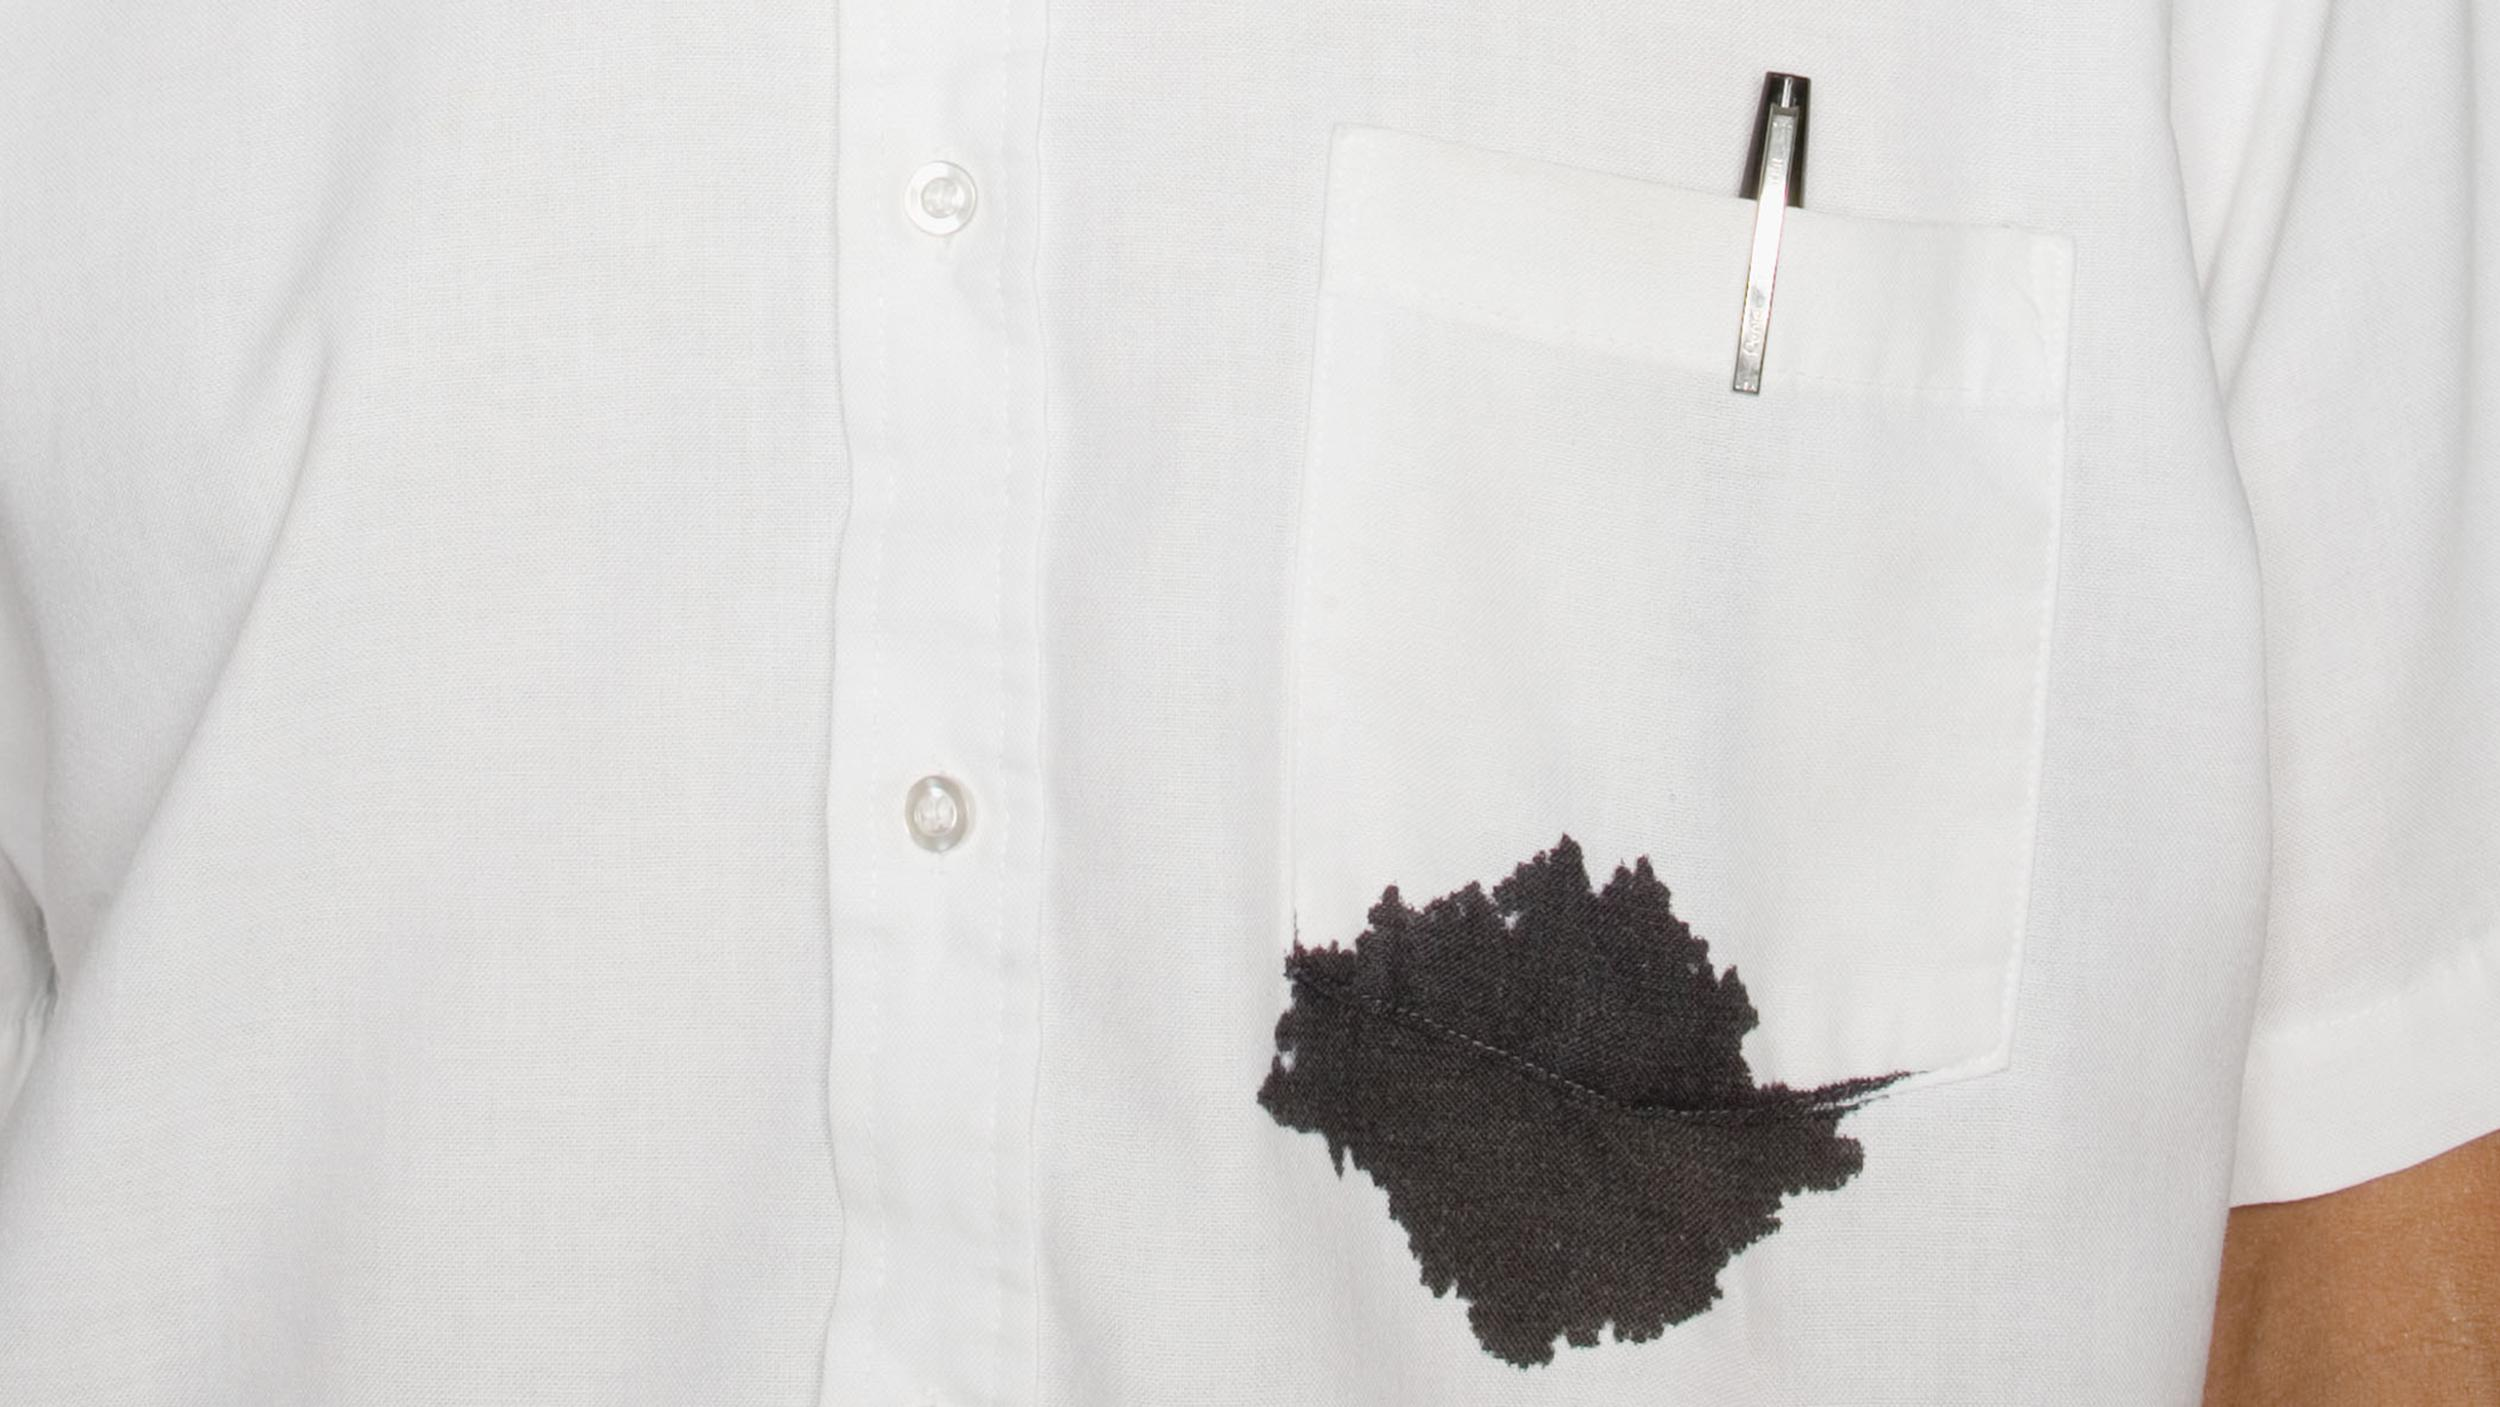gun: (1271, 844, 1901, 1357)
